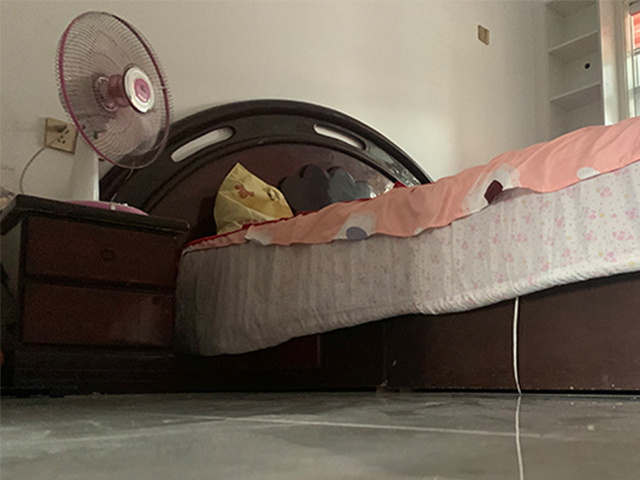bed: (98, 99, 640, 394)
cabinet: (1, 193, 190, 395)
wire: (16, 117, 76, 194)
